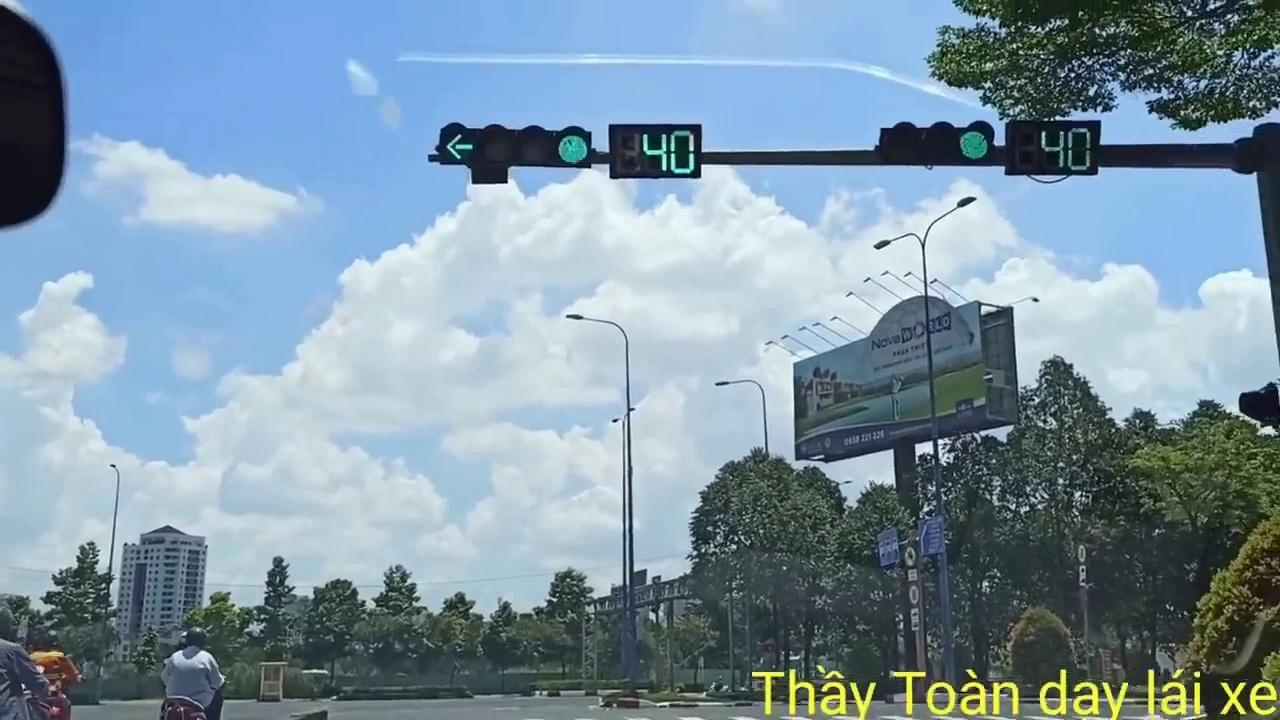Biển phụ: (909, 607, 921, 632), (1080, 564, 1088, 587), (907, 568, 919, 583)
Chỉ hướng đường: (916, 517, 948, 555)
Cấm xe máy: (903, 545, 918, 567)
Làn đường cho từng xe: (874, 528, 901, 566)
